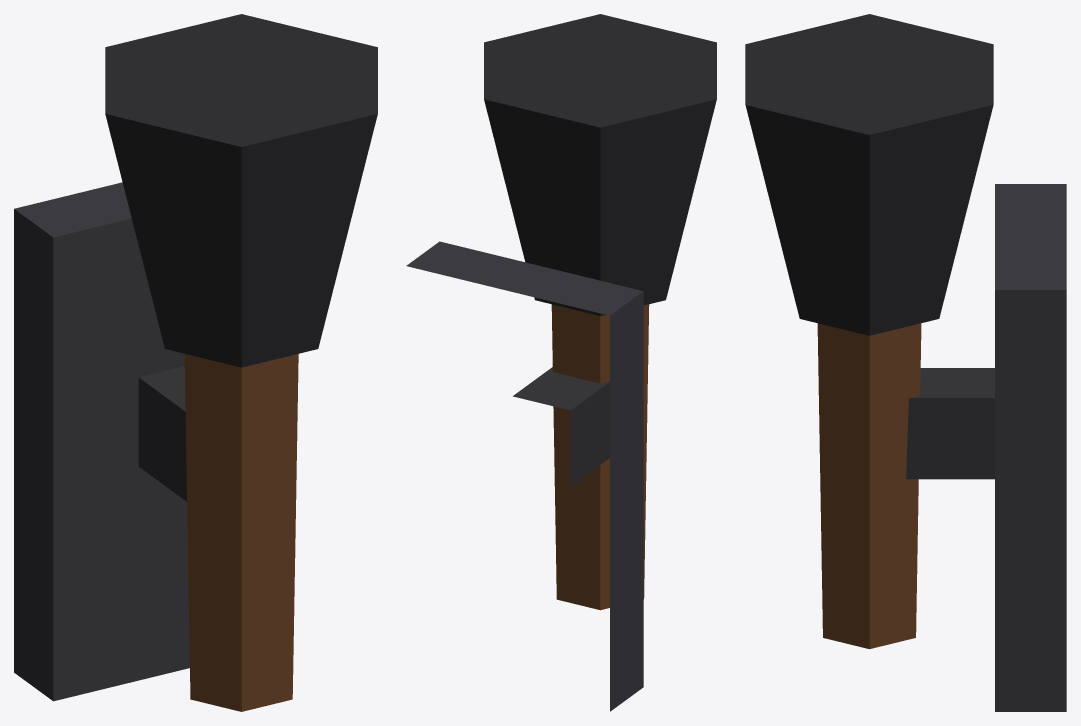
Rendered from wall_torch.glb.
3 views of the same model, side by side, from view 1: azimuth 30°, elevation 25°; view 2: azimuth 150°, elevation 25°; view 3: azimuth 270°, elevation 25° (orthographic). The views are drawn at different scales.
Parts seen in each view (by area): view 1: wall_torch; view 2: wall_torch; view 3: wall_torch.
Boxes of the visible parts, x1,y1,x2,y2 form: wall_torch: (14,14,377,711); wall_torch: (406,14,716,711); wall_torch: (745,14,1066,711).
Bounding box in the file's own units: 0.16 × 0.36 × 0.1793.
